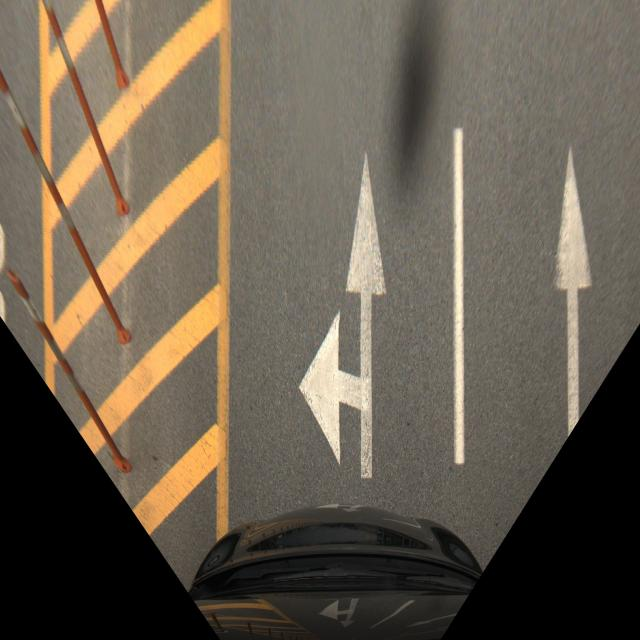forward: (452, 127, 640, 427)
forward_left: (215, 96, 472, 503)
